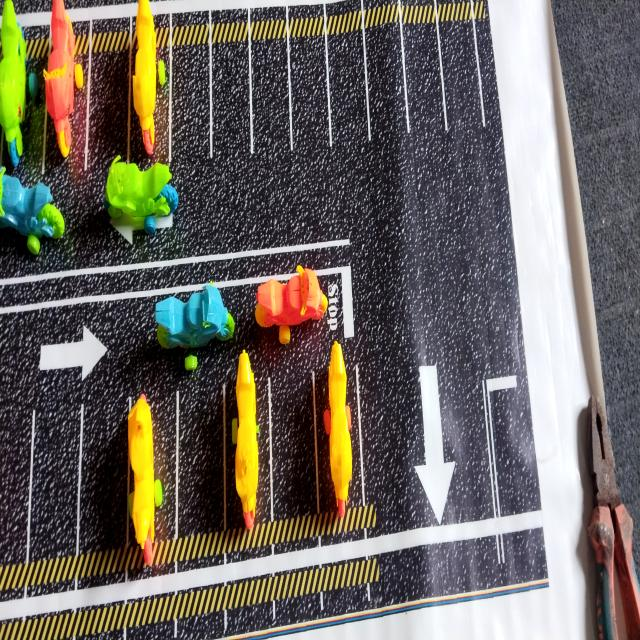bikes: (155, 284, 235, 370), (255, 265, 328, 344), (0, 167, 65, 254), (104, 156, 178, 229)
occupied: (0, 0, 47, 185), (43, 0, 89, 184), (223, 350, 270, 529), (316, 341, 362, 517), (128, 393, 175, 565), (128, 0, 170, 162)
others: (588, 396, 640, 640)
slots: (29, 404, 82, 559), (80, 397, 132, 551), (178, 379, 224, 537), (268, 371, 316, 519), (87, 49, 129, 171), (0, 409, 33, 564), (290, 31, 328, 155), (173, 44, 209, 174), (328, 30, 367, 148), (366, 25, 406, 140), (440, 23, 483, 127), (213, 38, 250, 157), (404, 25, 445, 131), (253, 41, 289, 153)
